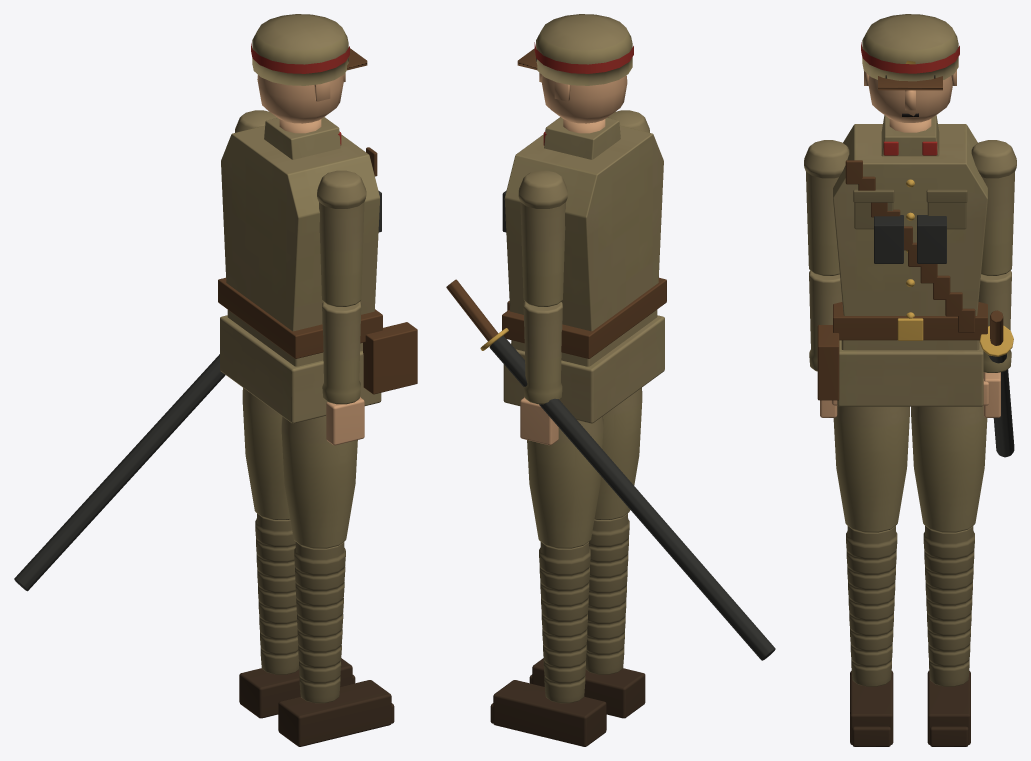
Rendered from crew_officer.glb.
3 renders of one model, left to right at view 1: azimuth 30°, elevation 25°; view 2: azimuth 150°, elevation 25°; view 3: azimuth 270°, elevation 25°, orthographic.
Visible parts, largest first — view 1: TorsoMesh, HeadMeshMesh, ThighRMesh, PelvisMesh, ShinRMesh, ShinLMesh, UpperArmRMesh, FootRMesh, ThighLMesh, ForearmRMesh, FootLMesh, HandMeshRMesh; view 2: TorsoMesh, HeadMeshMesh, PelvisMesh, ShinLMesh, ThighLMesh, ShinRMesh, UpperArmLMesh, FootLMesh, ForearmLMesh, ThighRMesh, FootRMesh, HandMeshLMesh (+1 smaller); view 3: TorsoMesh, PelvisMesh, HeadMeshMesh, ThighLMesh, ThighRMesh, ShinLMesh, ShinRMesh, UpperArmLMesh, UpperArmRMesh, FootLMesh, FootRMesh, ForearmRMesh (+2 smaller).
Part boxes in pixels (box(x1,y1,x2,y2)): TorsoMesh: box(14, 117, 417, 591); HeadMeshMesh: box(251, 14, 367, 133); ThighRMesh: box(281, 415, 357, 548); PelvisMesh: box(220, 310, 381, 423); ShinRMesh: box(294, 542, 345, 703); ShinLMesh: box(255, 513, 298, 674); UpperArmRMesh: box(317, 170, 366, 306); FootRMesh: box(278, 680, 394, 746); ThighLMesh: box(242, 388, 290, 519); ForearmRMesh: box(322, 301, 361, 404); FootLMesh: box(239, 658, 355, 718); HandMeshRMesh: box(326, 397, 364, 445); TorsoMesh: box(446, 117, 775, 660); HeadMeshMesh: box(517, 14, 633, 133); PelvisMesh: box(503, 310, 664, 423); ShinLMesh: box(539, 542, 590, 703); ThighLMesh: box(527, 416, 603, 548); ShinRMesh: box(586, 513, 629, 674); UpperArmLMesh: box(518, 170, 567, 306); FootLMesh: box(490, 680, 606, 746); ForearmLMesh: box(523, 302, 562, 404); ThighRMesh: box(594, 388, 642, 519); FootRMesh: box(529, 658, 645, 718); HandMeshLMesh: box(520, 397, 558, 445); TorsoMesh: box(817, 115, 1014, 457); PelvisMesh: box(837, 340, 983, 406); HeadMeshMesh: box(861, 14, 959, 132); ThighLMesh: box(911, 405, 987, 532); ThighRMesh: box(833, 405, 909, 532); ShinLMesh: box(923, 525, 974, 686); ShinRMesh: box(846, 525, 897, 686); UpperArmLMesh: box(971, 140, 1016, 275); UpperArmRMesh: box(804, 140, 849, 275); FootLMesh: box(927, 671, 970, 746); FootRMesh: box(850, 671, 893, 746); ForearmRMesh: box(809, 270, 842, 371).
Size of the model in its own units: 0.8822 by 1.77 by 0.4935.
Materials: 9 (1 with a texture image).
